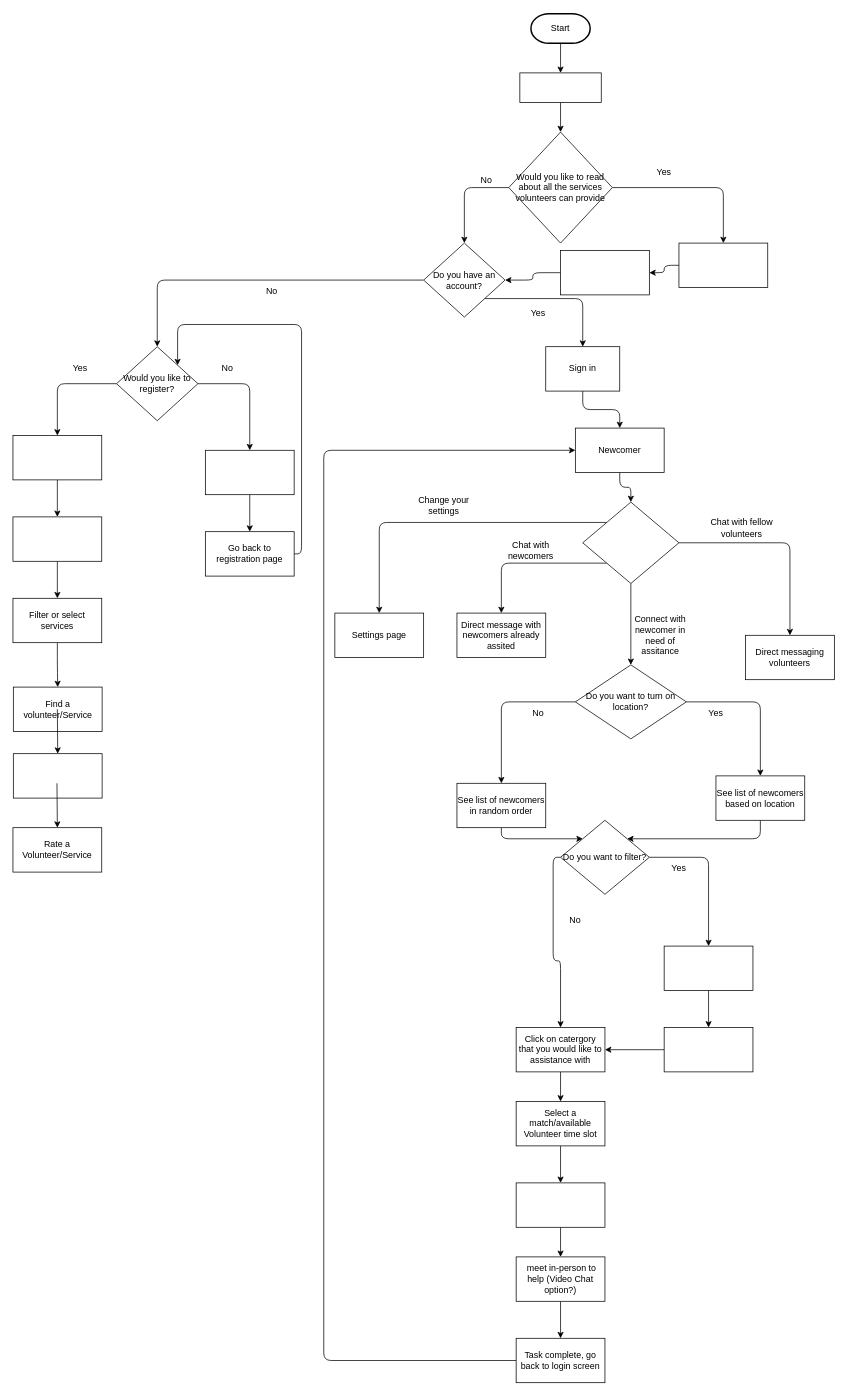
Some shapes in this 847 by 1396 pixel diagram are drawn without their labels. The box of each missing label's shape, as (x1, y1, x2, y2) in pixels:
Fill a newcomer form, Select a language: (12, 435, 102, 480)
Filter by nationality and/or tasks: (663, 945, 753, 990)
Go here to sign in: (560, 250, 649, 295)
Landing page: (519, 72, 601, 102)
Once accepted,chat away: (515, 1182, 605, 1227)
Page that describes the services that this app can provide: (205, 450, 294, 495)
Roles and responsibilities of newcomer using this service: (678, 242, 768, 287)
Select a a matching Volunteer/Service: (13, 753, 102, 798)
Select a language: (12, 516, 102, 561)
Updated list: (663, 1027, 753, 1072)
What action do you want to do?: (582, 501, 679, 583)
